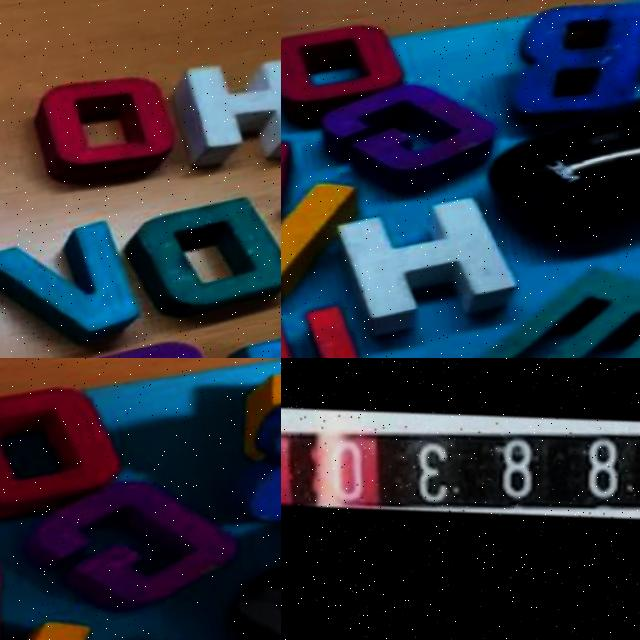0: (316, 429, 378, 507)
3: (405, 434, 463, 509)
8: (570, 427, 635, 508), (487, 427, 550, 508)
B: (482, 0, 640, 140), (237, 393, 281, 548)
D: (107, 182, 281, 337)
G: (5, 465, 253, 633), (307, 69, 506, 207)
H: (321, 186, 530, 345), (166, 50, 281, 170)
L: (281, 178, 374, 329)
M: (450, 252, 640, 358)
O: (16, 57, 189, 203), (0, 376, 135, 524), (281, 13, 412, 130)
V: (0, 212, 138, 358)
